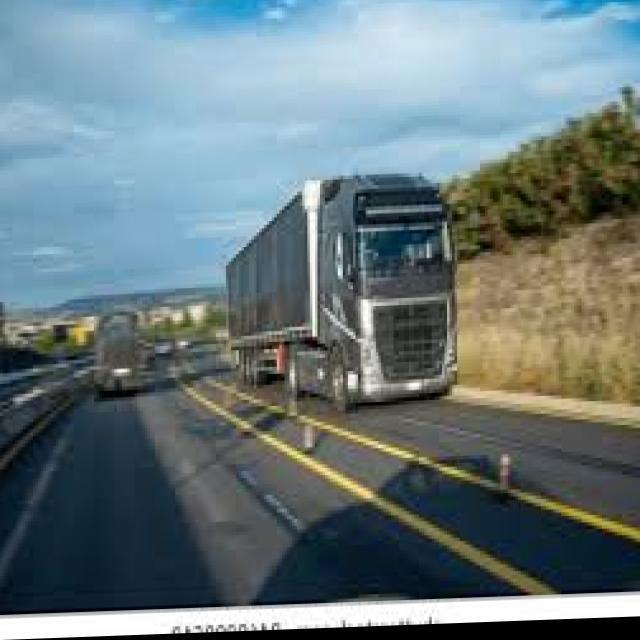covered: (224, 168, 462, 416)
